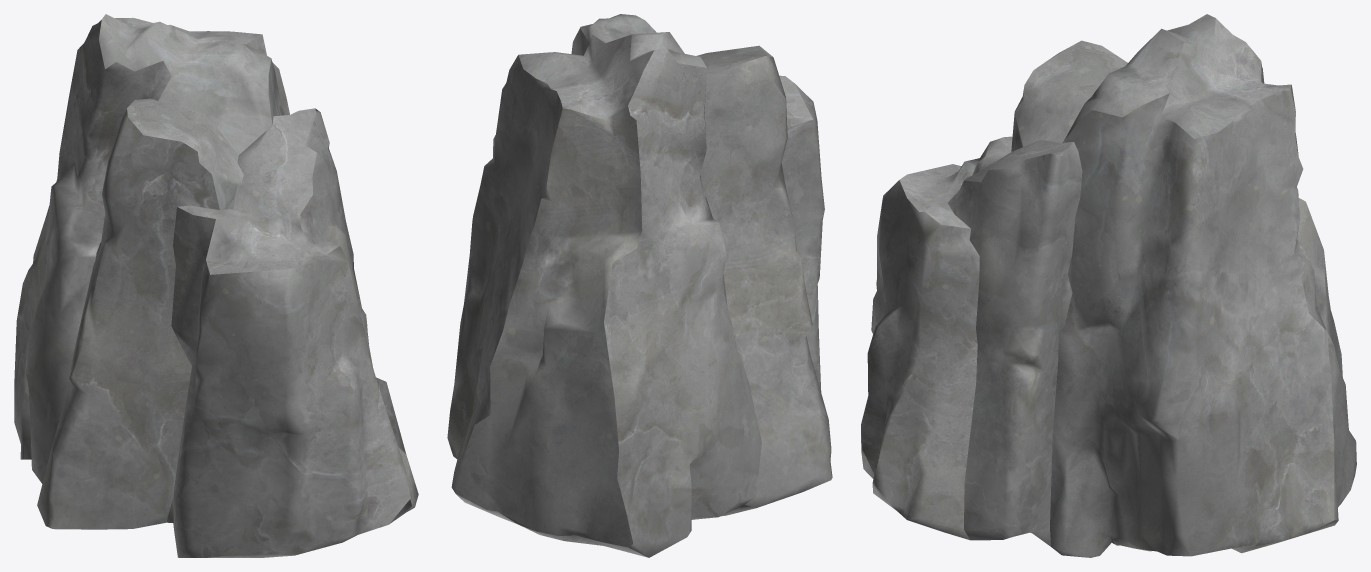
The model's file is SM_Com_Roc_82AM.fbx.
3 views of the same model, side by side, from view 1: azimuth 30°, elevation 25°; view 2: azimuth 150°, elevation 25°; view 3: azimuth 270°, elevation 25° (orthographic).
Parts seen in each view (by area): view 1: SM_Com_Roc_82AM.mo; view 2: SM_Com_Roc_82AM.mo; view 3: SM_Com_Roc_82AM.mo.
Boxes of the visible parts, <box> form: SM_Com_Roc_82AM.mo: <box>14,14,418,557</box>; SM_Com_Roc_82AM.mo: <box>447,14,832,557</box>; SM_Com_Roc_82AM.mo: <box>861,14,1356,557</box>.
Bounding box in the file's own units: 31.28 × 43.5 × 40.51.
